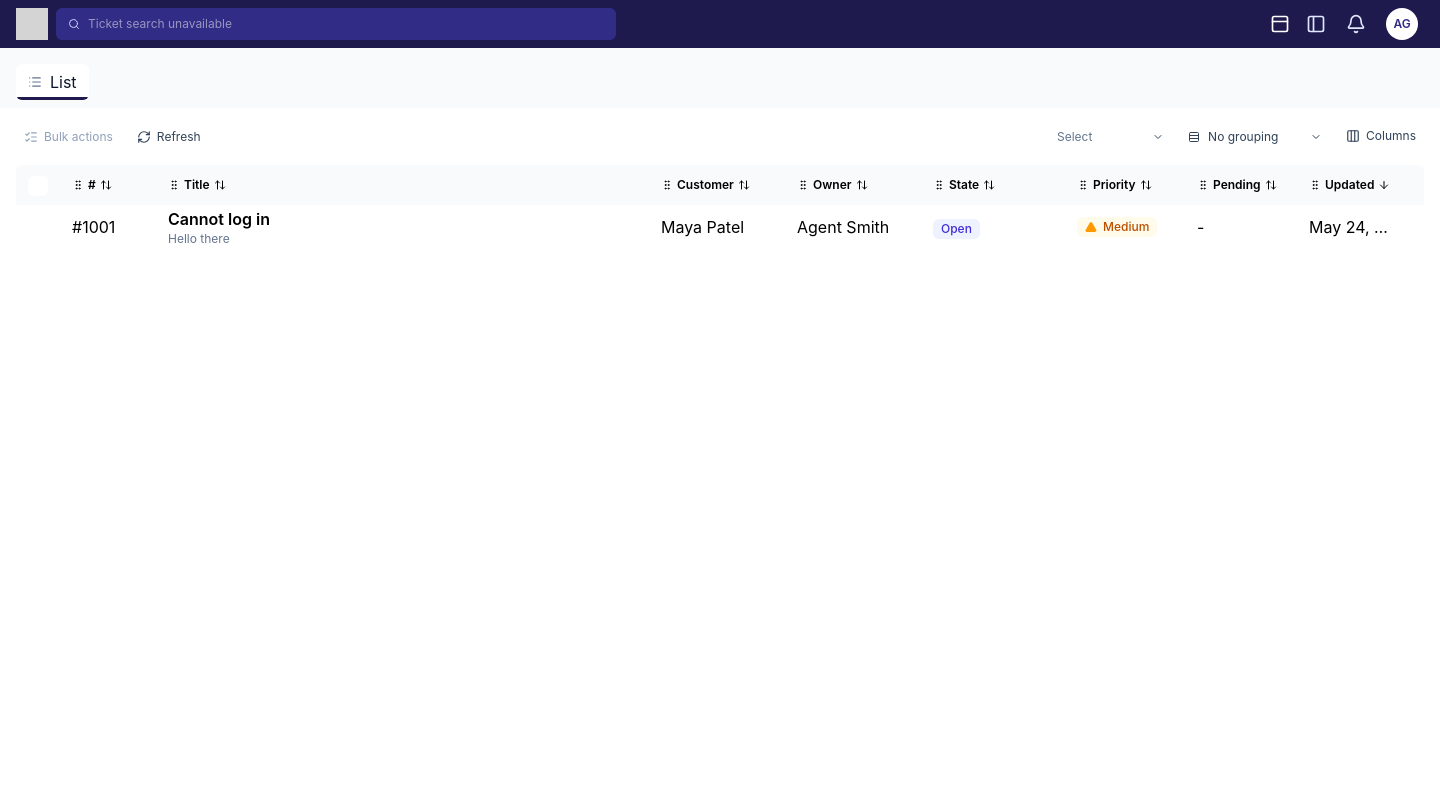
it: TicketWorkspace settings › opens Settings Views from the avatar and updates the default in place
This screenshot has width=1440, height=810.
Click the button with aria-label "Open profile menu, Support": (1402,24) left=1380, top=4, right=1424, bottom=44
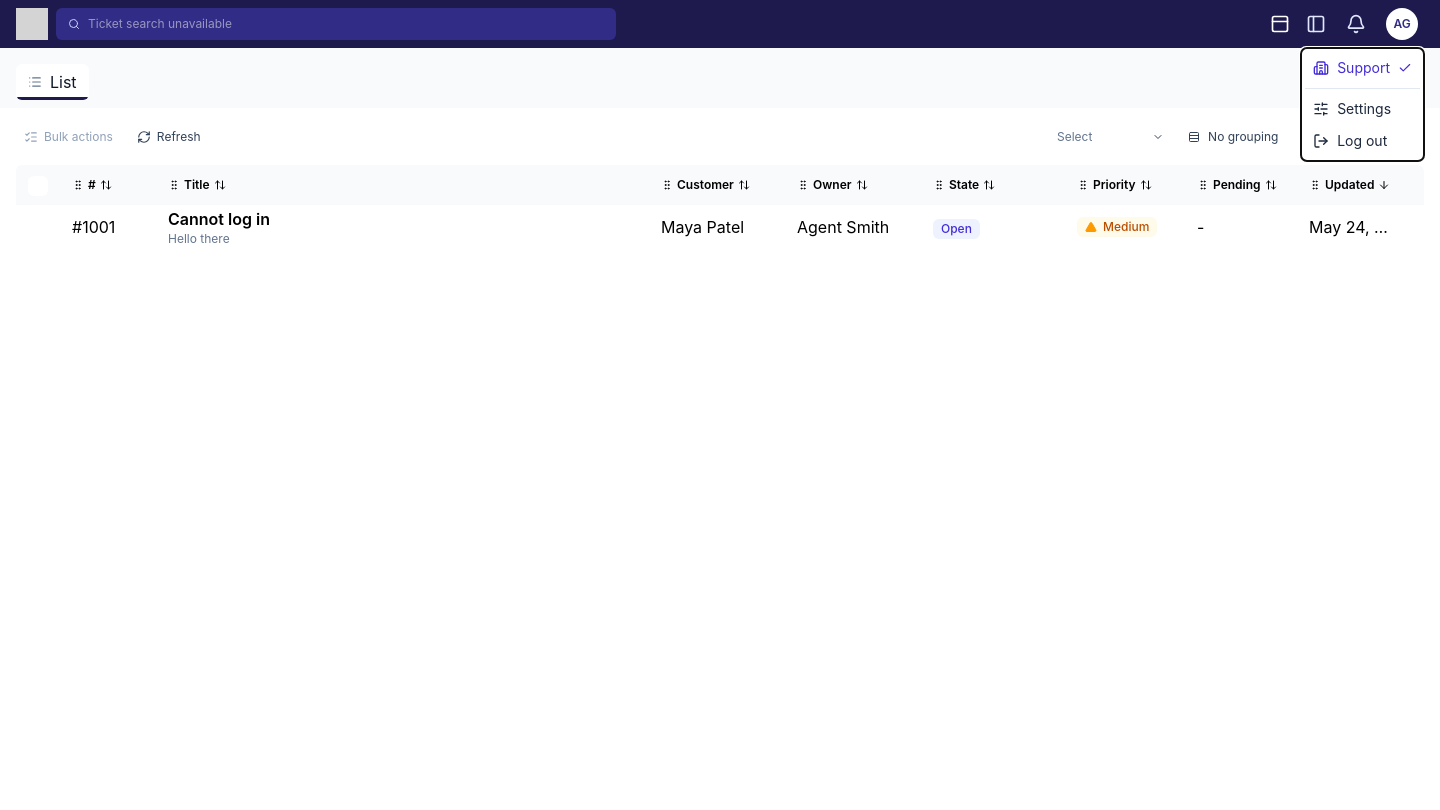
Click the menu item "Settings": (1363,109) left=1305, top=93, right=1420, bottom=125
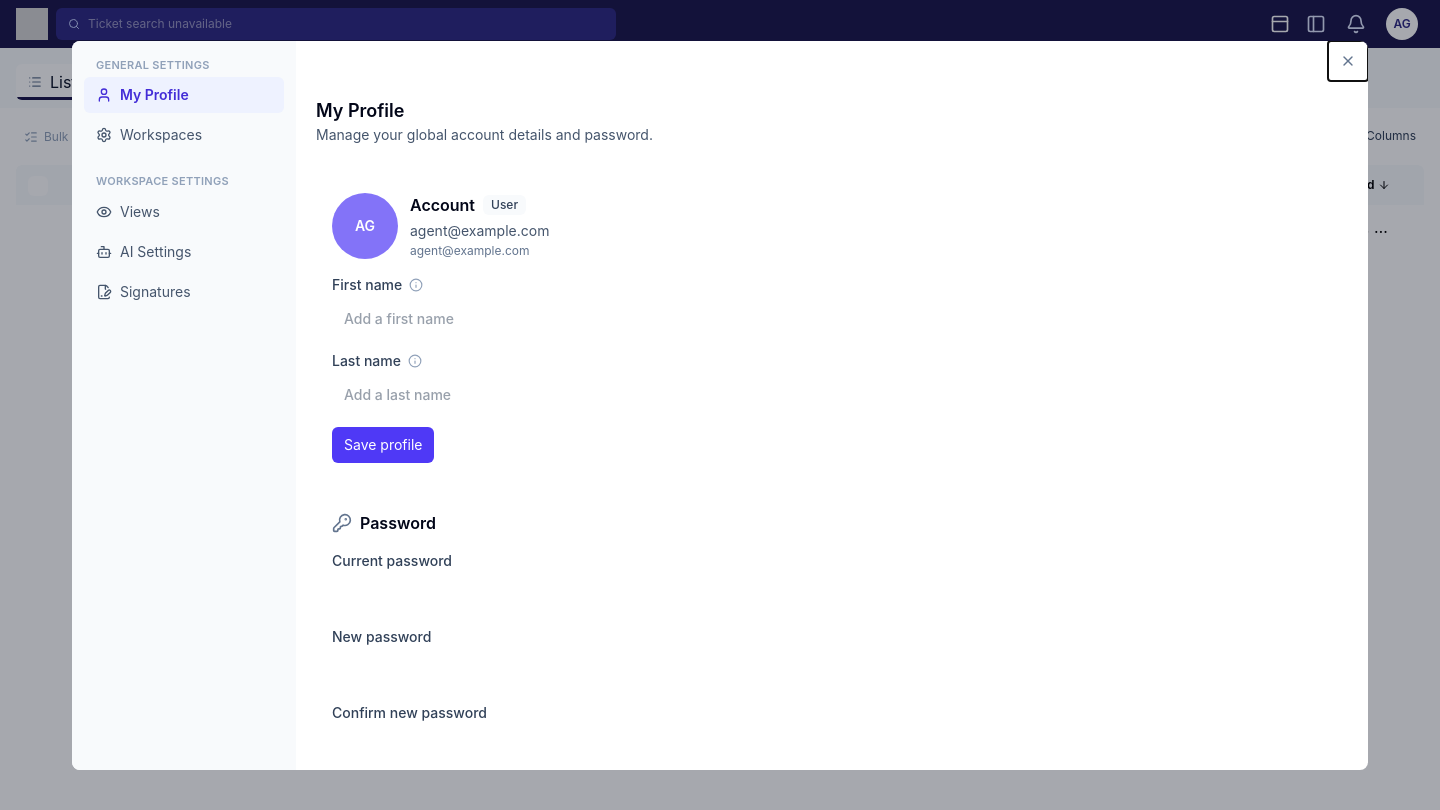
Click the button "Views": (184,212) left=84, top=194, right=284, bottom=230
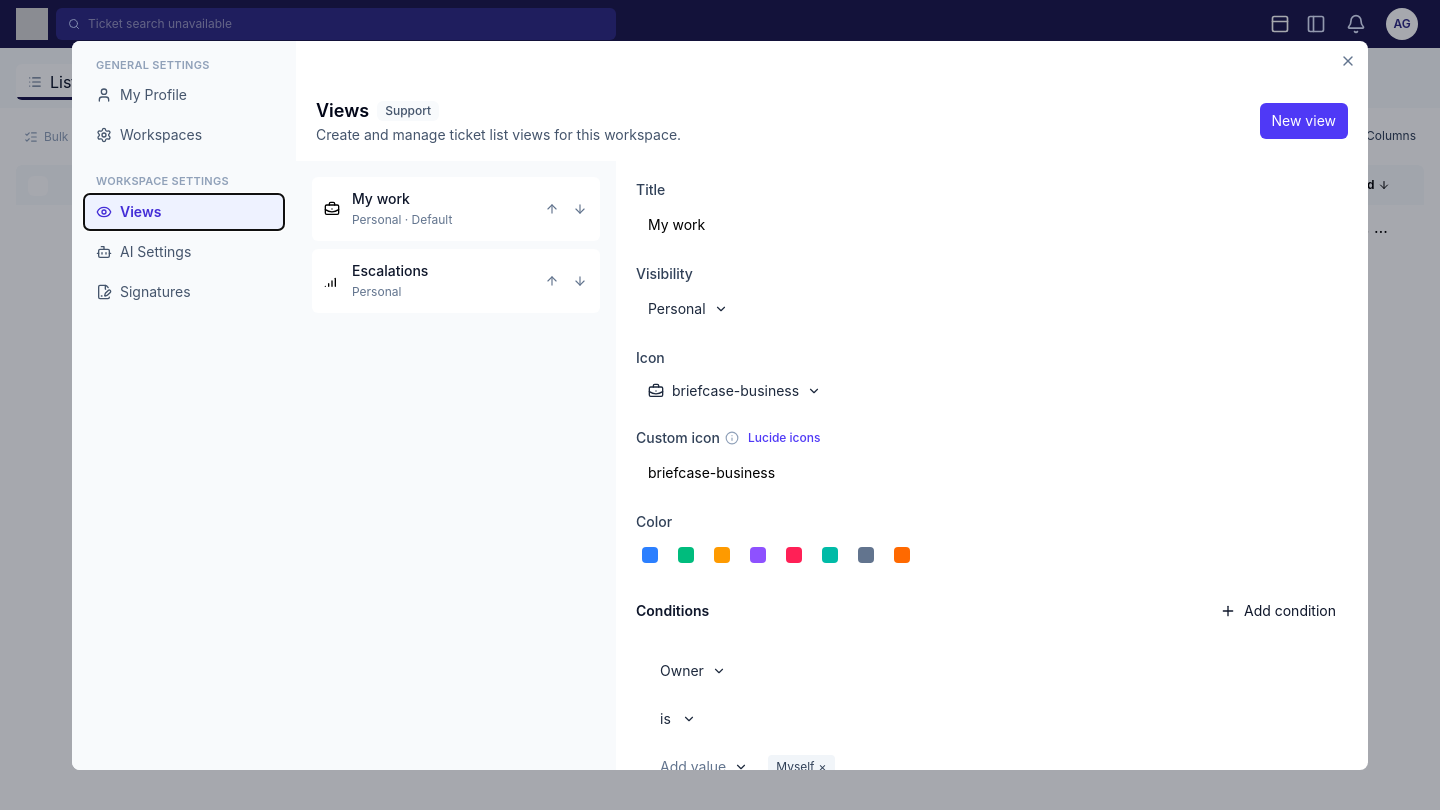
Click the text "Escalations": (390,270) left=352, top=262, right=428, bottom=278
(page scrolled)
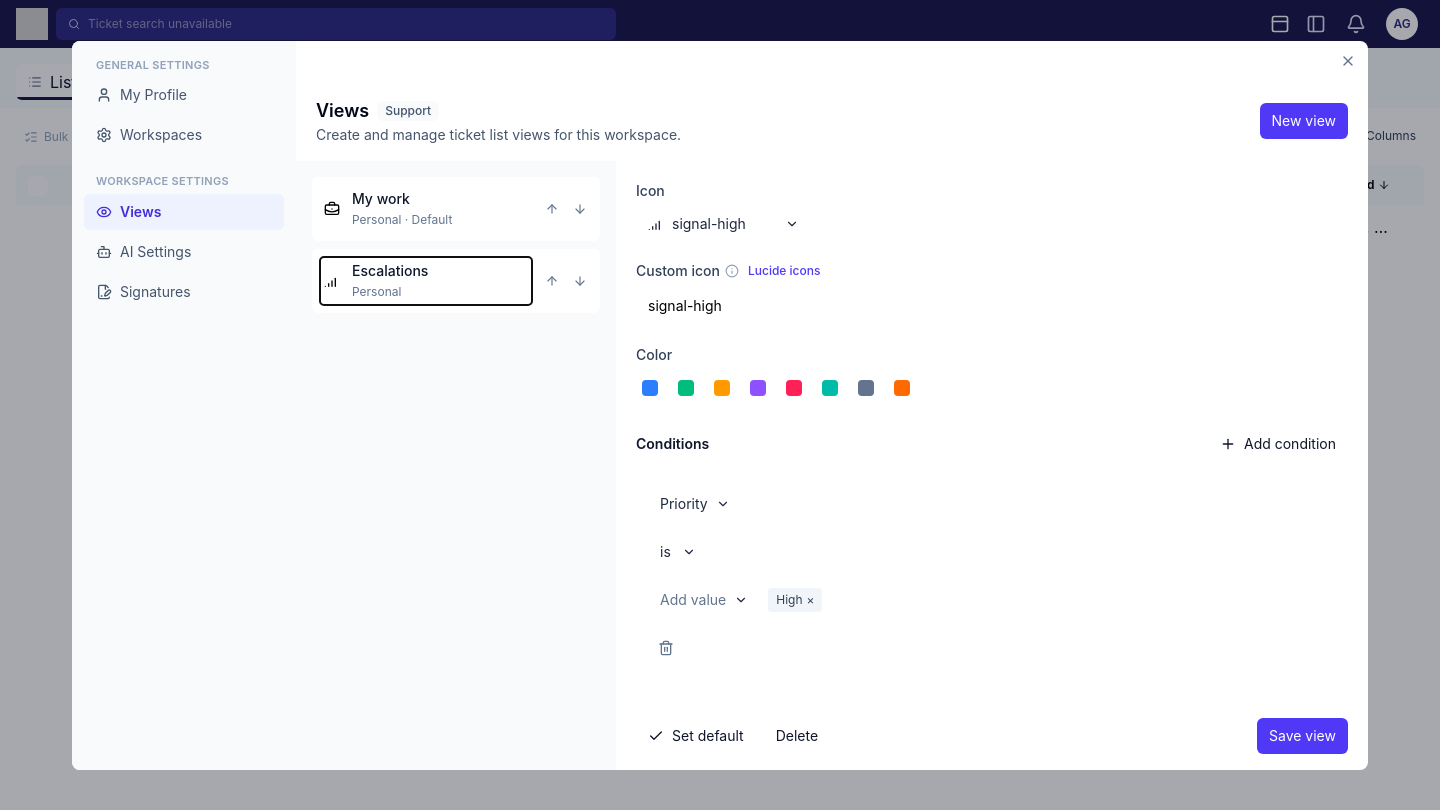
Click the button "Set default": (696,736) left=636, top=718, right=756, bottom=754
(page scrolled)
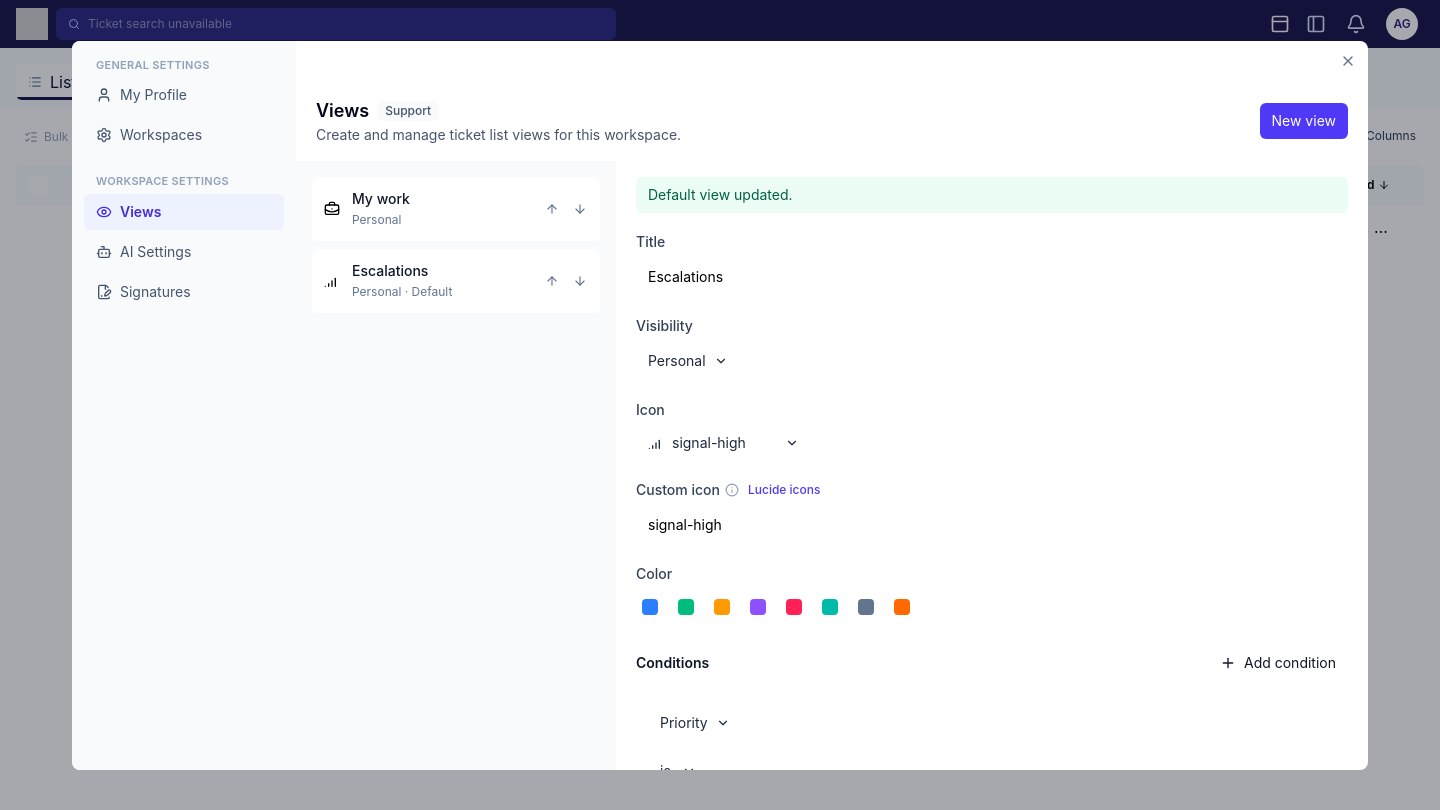
Expected: the text "Default view updated." is shown, left=636, top=176, right=1348, bottom=212
